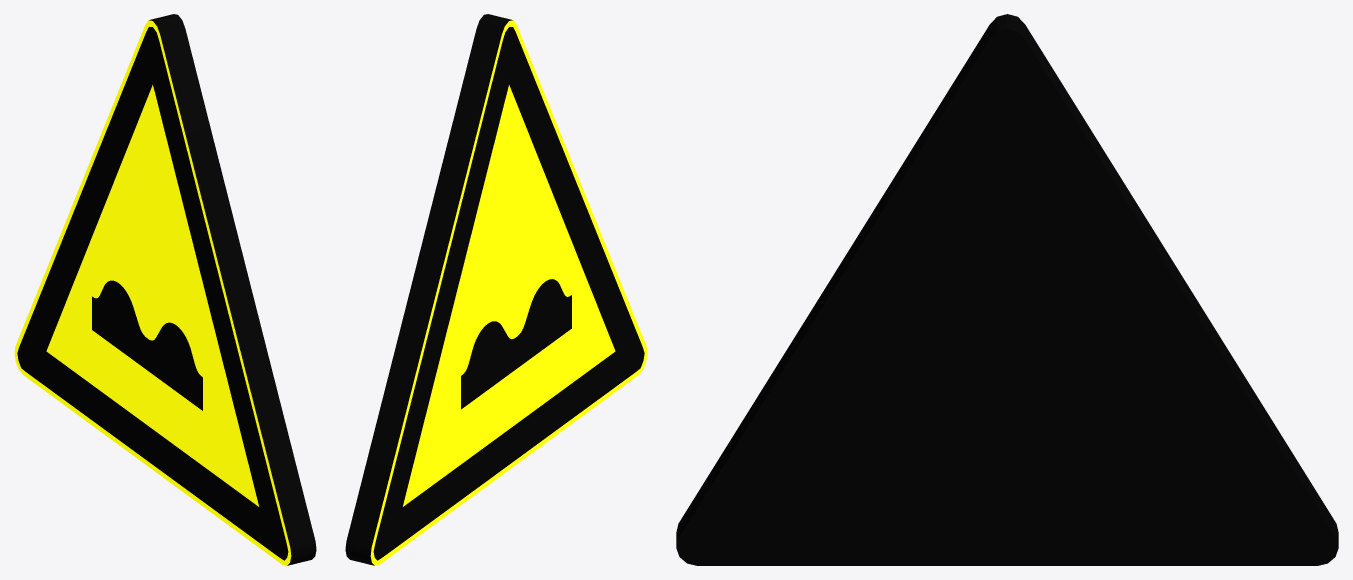
Rendered from Uneven_Road.glb.
The picture shows the model from 3 angles, left to right: view 1: azimuth 30°, elevation 25°; view 2: azimuth 150°, elevation 25°; view 3: azimuth 270°, elevation 25°; orthographic projection. The views are drawn at different scales.
Parts seen in each view (by area): view 1: Uneven_Road; view 2: Uneven_Road; view 3: Uneven_Road.
Boxes of the visible parts, left/top/right/bottom form: Uneven_Road: left=14, top=14, right=316, bottom=565; Uneven_Road: left=345, top=14, right=647, bottom=565; Uneven_Road: left=676, top=14, right=1338, bottom=565.
Size of the model in its own units: 0.075 by 1.02 by 1.14.
